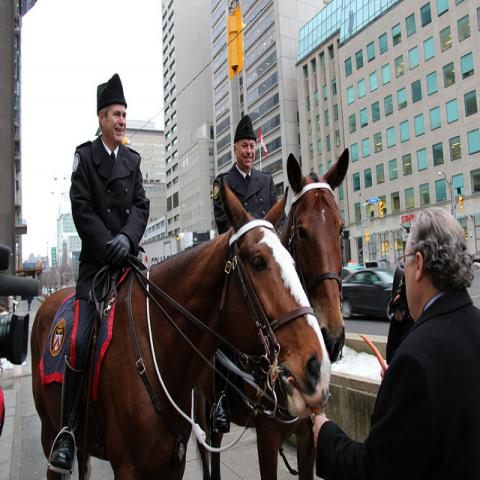car: (344, 269, 394, 311), (342, 264, 364, 302)
truck: (141, 230, 217, 279)
